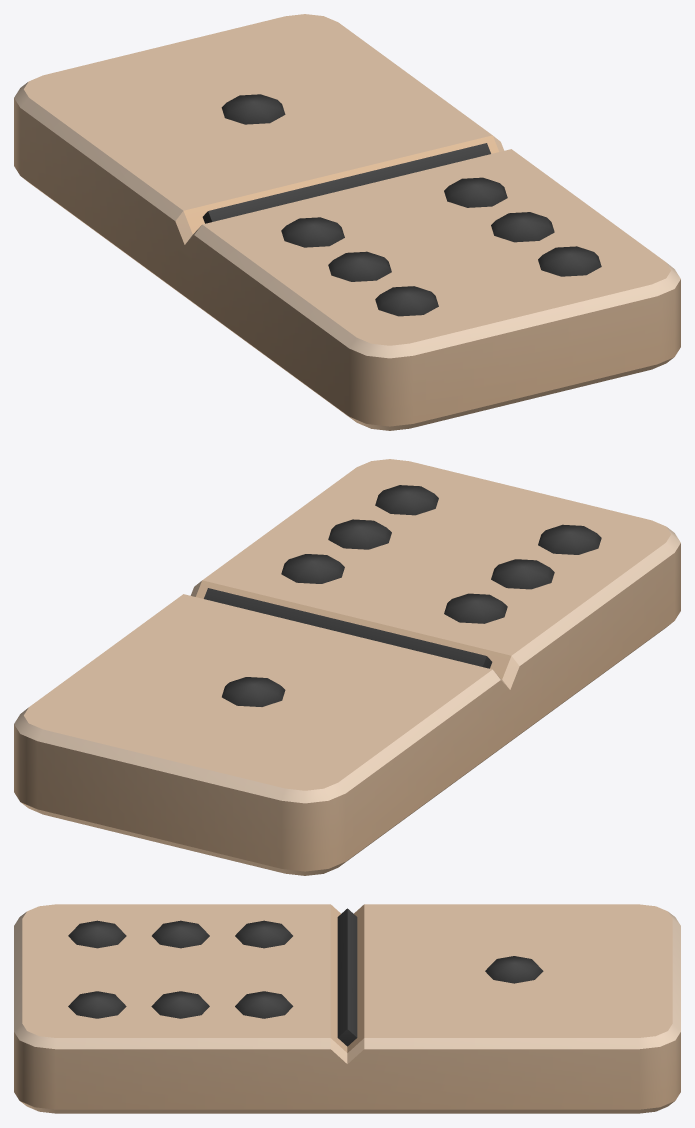
Rendered from domino_tile_1-6.obj.
3 views of the same model, one above another, from view 1: azimuth 30°, elevation 25°; view 2: azimuth 150°, elevation 25°; view 3: azimuth 270°, elevation 25° (orthographic). The views are drawn at different scales.
Parts seen in each view (by area): view 1: domino_tile_1-6; view 2: domino_tile_1-6; view 3: domino_tile_1-6.
Part boxes in pixels (bbox=[...]): domino_tile_1-6: bbox=[14, 14, 680, 430]; domino_tile_1-6: bbox=[14, 459, 680, 875]; domino_tile_1-6: bbox=[14, 904, 680, 1113].
Bounding box in the file's own units: 1 × 0.2767 × 2.
1 material, 1 textured.
